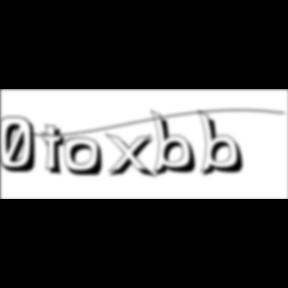0: (0, 115, 44, 174)
b: (150, 109, 204, 179), (198, 109, 251, 179)
o: (64, 137, 106, 179)
t: (42, 124, 72, 179)
x: (104, 132, 160, 181)
